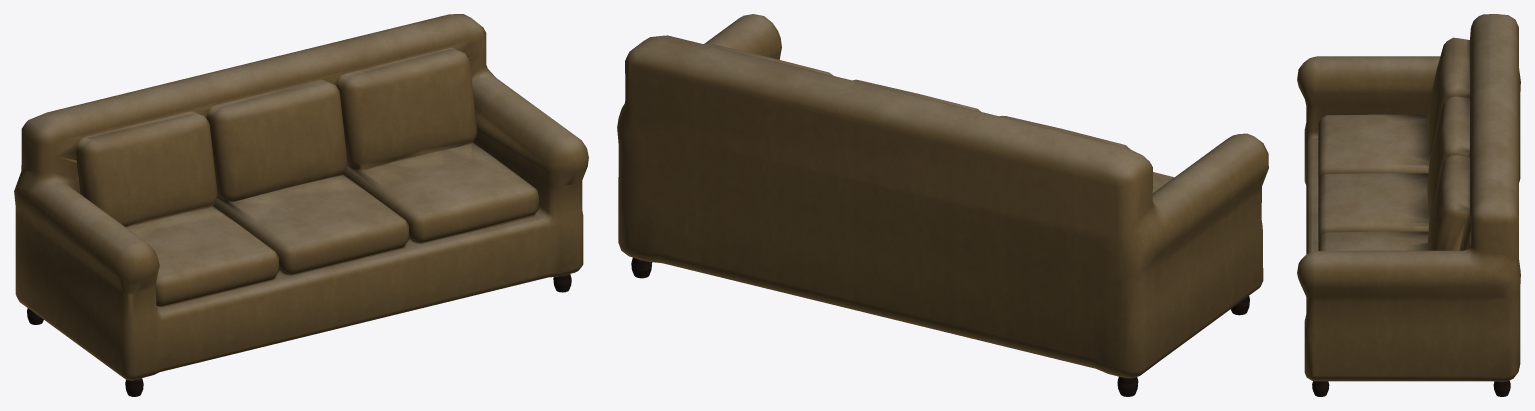
File: sofa_leather.glb
3 renders of one model, left to right at view 1: azimuth 30°, elevation 25°; view 2: azimuth 150°, elevation 25°; view 3: azimuth 270°, elevation 25°, orthographic. The views are drawn at different scales.
Visible parts, largest first — view 1: sofa_leather; view 2: sofa_leather; view 3: sofa_leather.
Boxes of the visible parts, x1=… form: sofa_leather: x1=14, y1=14, x2=588, y2=396; sofa_leather: x1=617, y1=14, x2=1268, y2=396; sofa_leather: x1=1297, y1=14, x2=1520, y2=396.
Size of the model in its own units: 2.1 by 0.8884 by 0.9372.
Materials: 1 (1 with a texture image).
